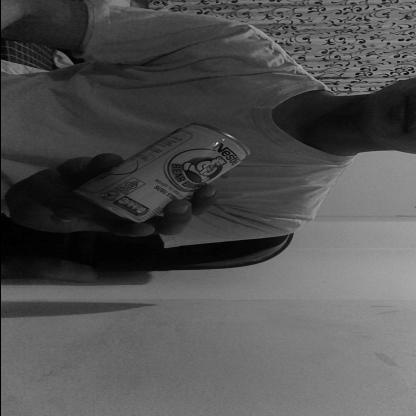alumunium_can: (82, 126, 256, 224)
